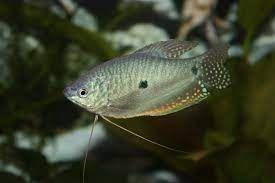Gourami: (64, 39, 232, 180)
